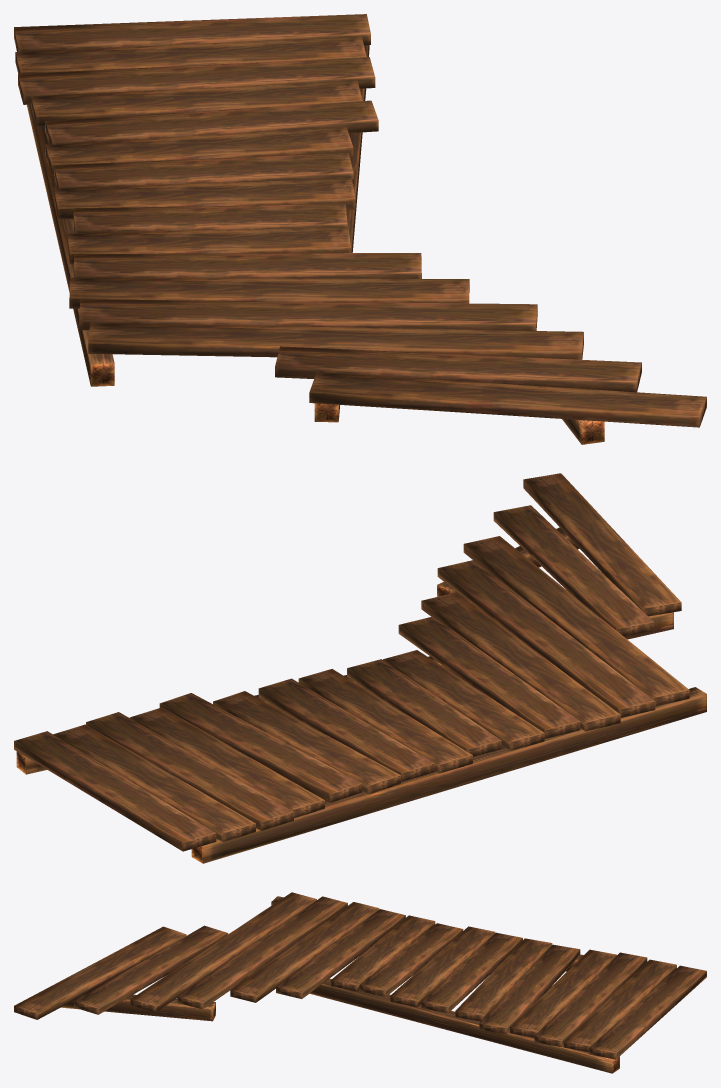
Rendered from SWORDLIGHT20_JAILPLATFORM04.fbx.
The picture shows the model from 3 angles, top to bottom: view 1: azimuth 30°, elevation 25°; view 2: azimuth 150°, elevation 25°; view 3: azimuth 270°, elevation 25°; orthographic projection. The views are drawn at different scales.
Parts seen in each view (by area): view 1: SWORDLIGHT20_JAILPLATFORM04; view 2: SWORDLIGHT20_JAILPLATFORM04; view 3: SWORDLIGHT20_JAILPLATFORM04.
Boxes of the visible parts, bbox=[...] form: SWORDLIGHT20_JAILPLATFORM04: bbox=[14, 14, 706, 444]; SWORDLIGHT20_JAILPLATFORM04: bbox=[14, 473, 706, 863]; SWORDLIGHT20_JAILPLATFORM04: bbox=[14, 892, 706, 1073].
Bounding box in the file's own units: 106567 × 6191 × 189806.
Materials: 2 (2 with a texture image).
